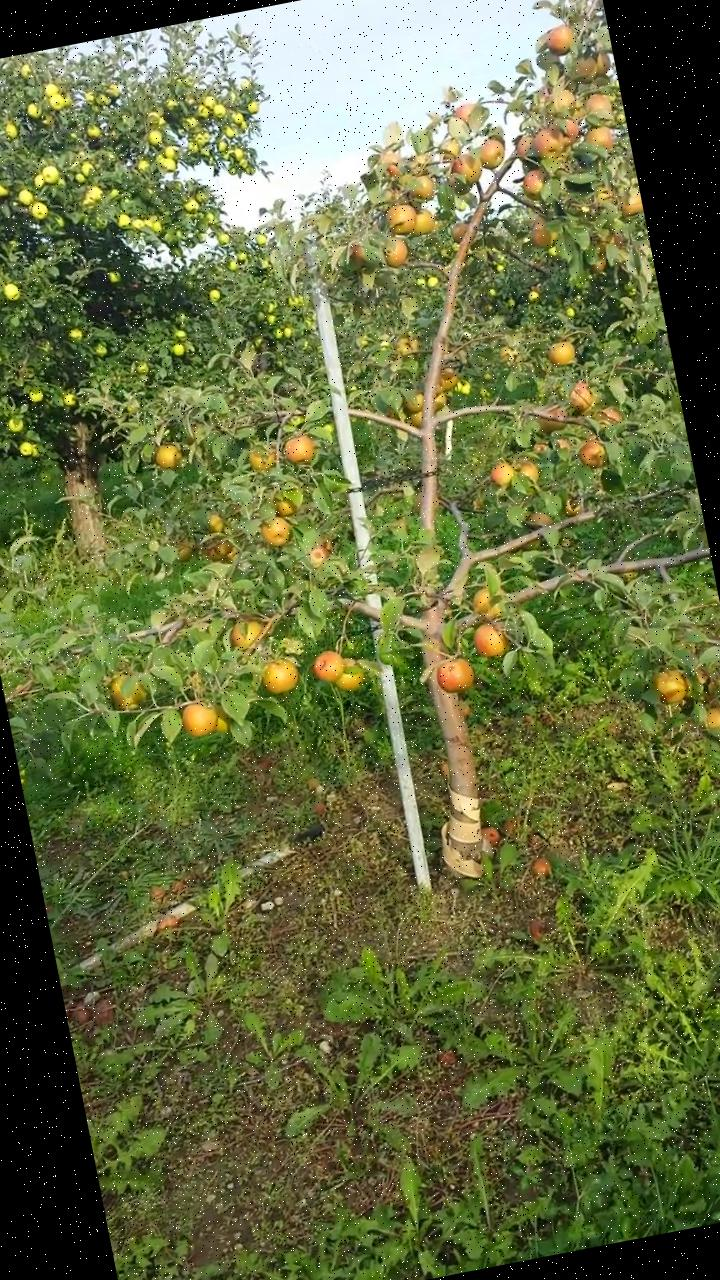Apple: (434, 654, 478, 694), (648, 666, 692, 706), (108, 669, 148, 712), (469, 580, 509, 622), (679, 666, 718, 706), (260, 656, 302, 693), (470, 619, 509, 657), (178, 699, 216, 738), (327, 656, 365, 694), (450, 150, 487, 186), (229, 612, 266, 648), (311, 649, 347, 684), (533, 122, 567, 159), (384, 201, 419, 235), (538, 399, 572, 434), (260, 516, 296, 548), (446, 96, 481, 128), (577, 434, 609, 469), (544, 22, 576, 56), (150, 437, 182, 468), (280, 434, 313, 464), (209, 699, 234, 738), (520, 168, 550, 200), (382, 232, 411, 265), (524, 504, 558, 532), (584, 122, 614, 152), (408, 168, 436, 200), (553, 113, 580, 146), (432, 363, 462, 392), (390, 332, 422, 359), (545, 339, 579, 364), (478, 138, 506, 168), (530, 220, 558, 250), (512, 454, 542, 482), (436, 133, 466, 160), (571, 54, 599, 82), (411, 206, 438, 234), (590, 180, 617, 208), (568, 379, 594, 408), (378, 148, 403, 178), (250, 444, 276, 470), (306, 542, 333, 567), (448, 218, 473, 244), (203, 511, 228, 536), (586, 90, 611, 114), (702, 701, 719, 736), (620, 187, 642, 214), (599, 230, 625, 252), (491, 462, 516, 484), (556, 88, 578, 112), (211, 536, 235, 558), (560, 494, 582, 518), (597, 404, 623, 424), (347, 240, 368, 263), (202, 544, 226, 564), (515, 133, 536, 155), (274, 496, 299, 514), (403, 393, 425, 412), (431, 390, 450, 412), (596, 49, 612, 75), (175, 542, 194, 562), (589, 256, 610, 274), (530, 438, 552, 454), (554, 435, 572, 450), (408, 414, 423, 426)
